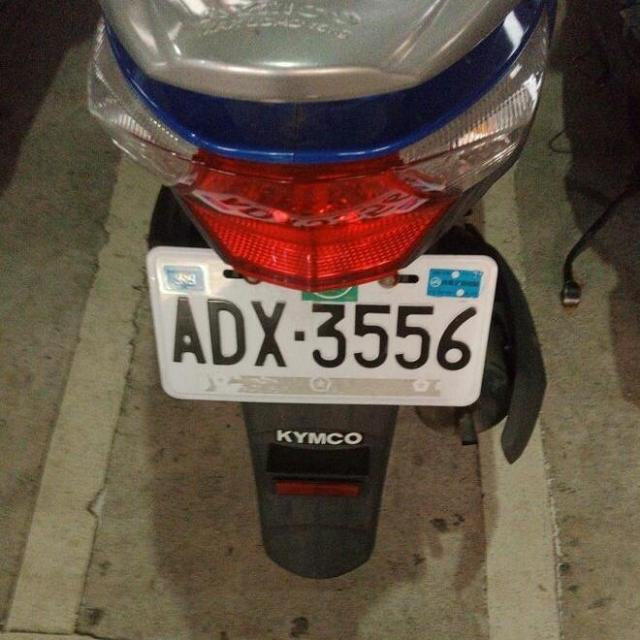W: (136, 228, 503, 417)
